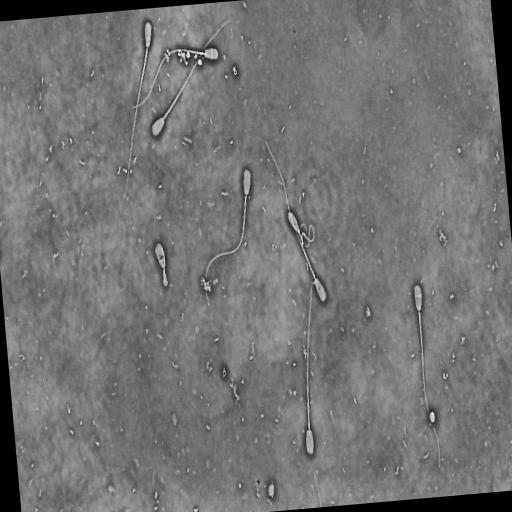coiled-tail: (155, 243, 166, 269), (163, 269, 168, 287)
folded-tail: (309, 225, 315, 242), (300, 224, 307, 233), (303, 233, 309, 241), (303, 241, 310, 247), (299, 232, 303, 242), (302, 232, 304, 235)
normal: (261, 133, 329, 305), (150, 12, 235, 139), (203, 165, 253, 310), (130, 44, 220, 112), (123, 17, 154, 201), (413, 279, 442, 473), (304, 260, 317, 459), (286, 209, 316, 250), (153, 239, 169, 289)
